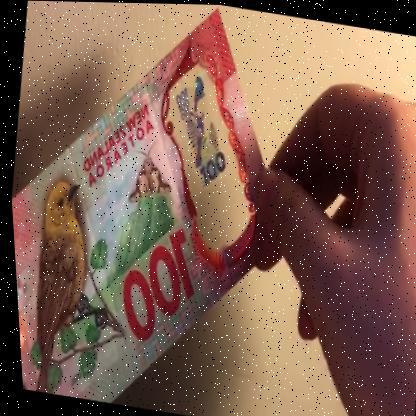100B: (156, 57, 241, 203)
